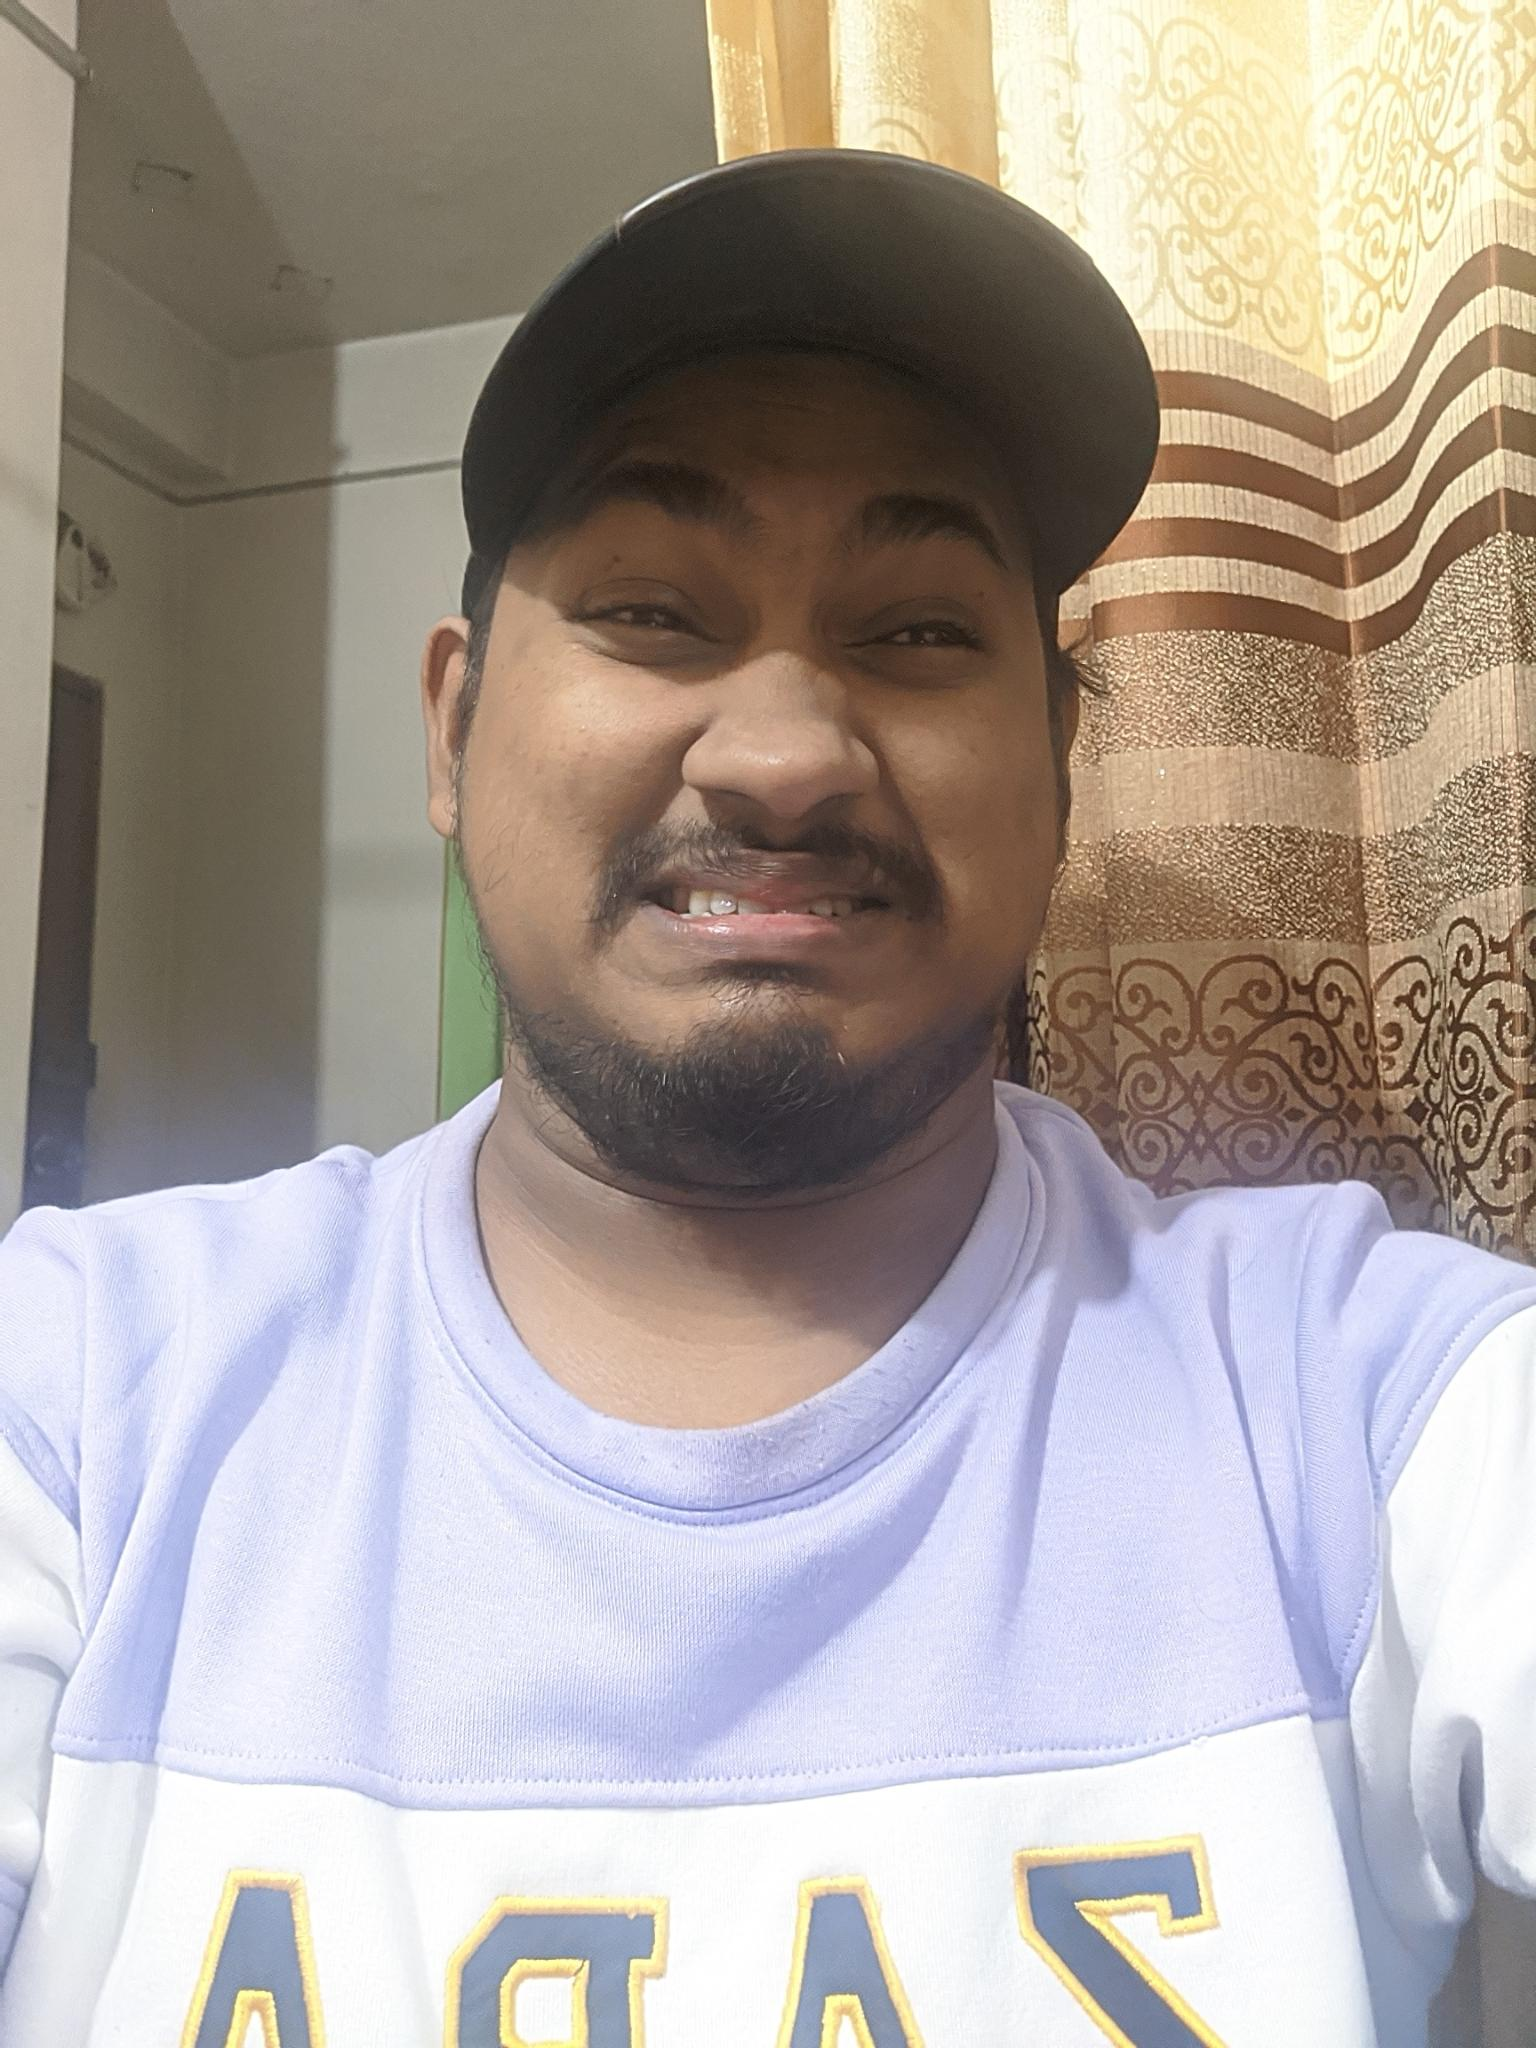Disgust: (463, 395, 1099, 1129)
